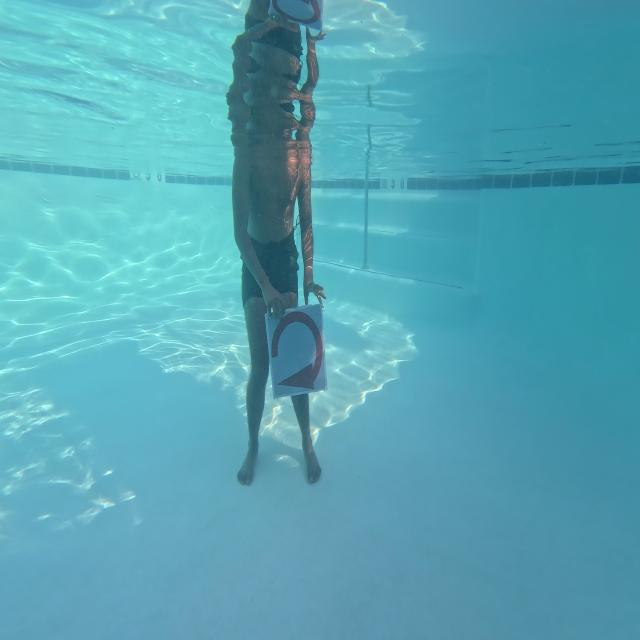red_side: (268, 305, 327, 401)
